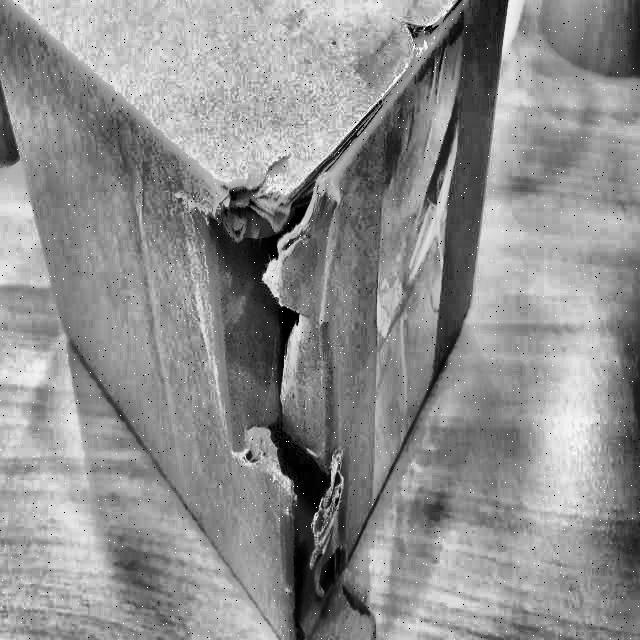box: (0, 0, 512, 639)
hole: (199, 168, 347, 635)
